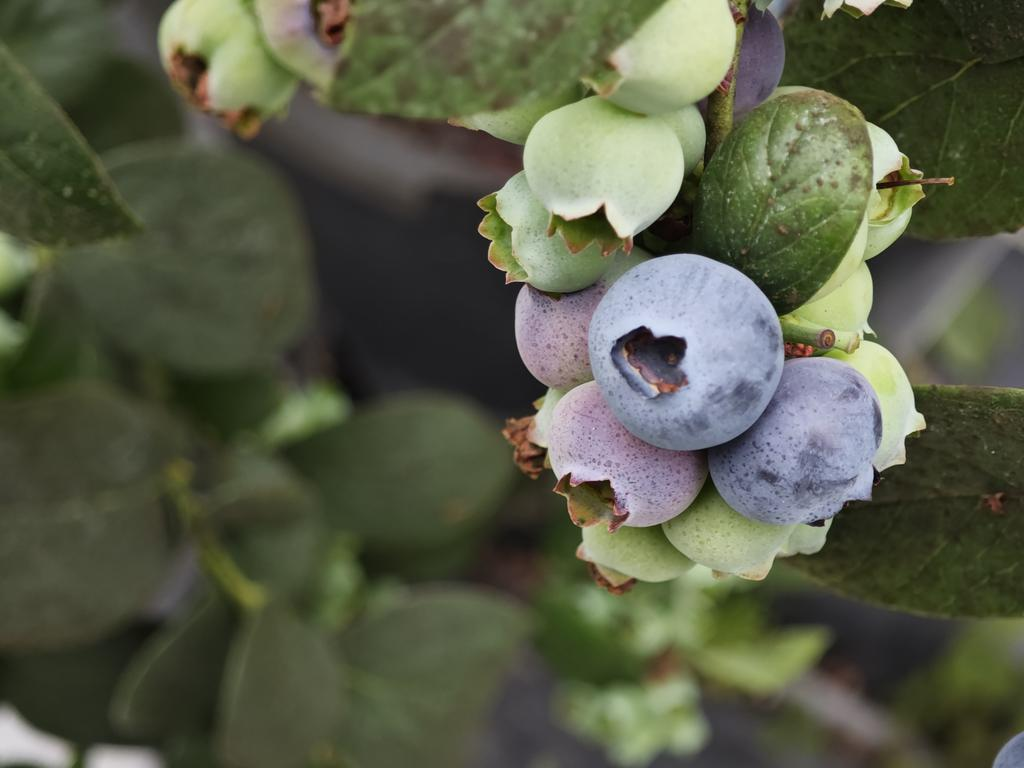RipeBlueBerry: (587, 251, 781, 447)
UnripeBlueBerry: (527, 97, 689, 238)
